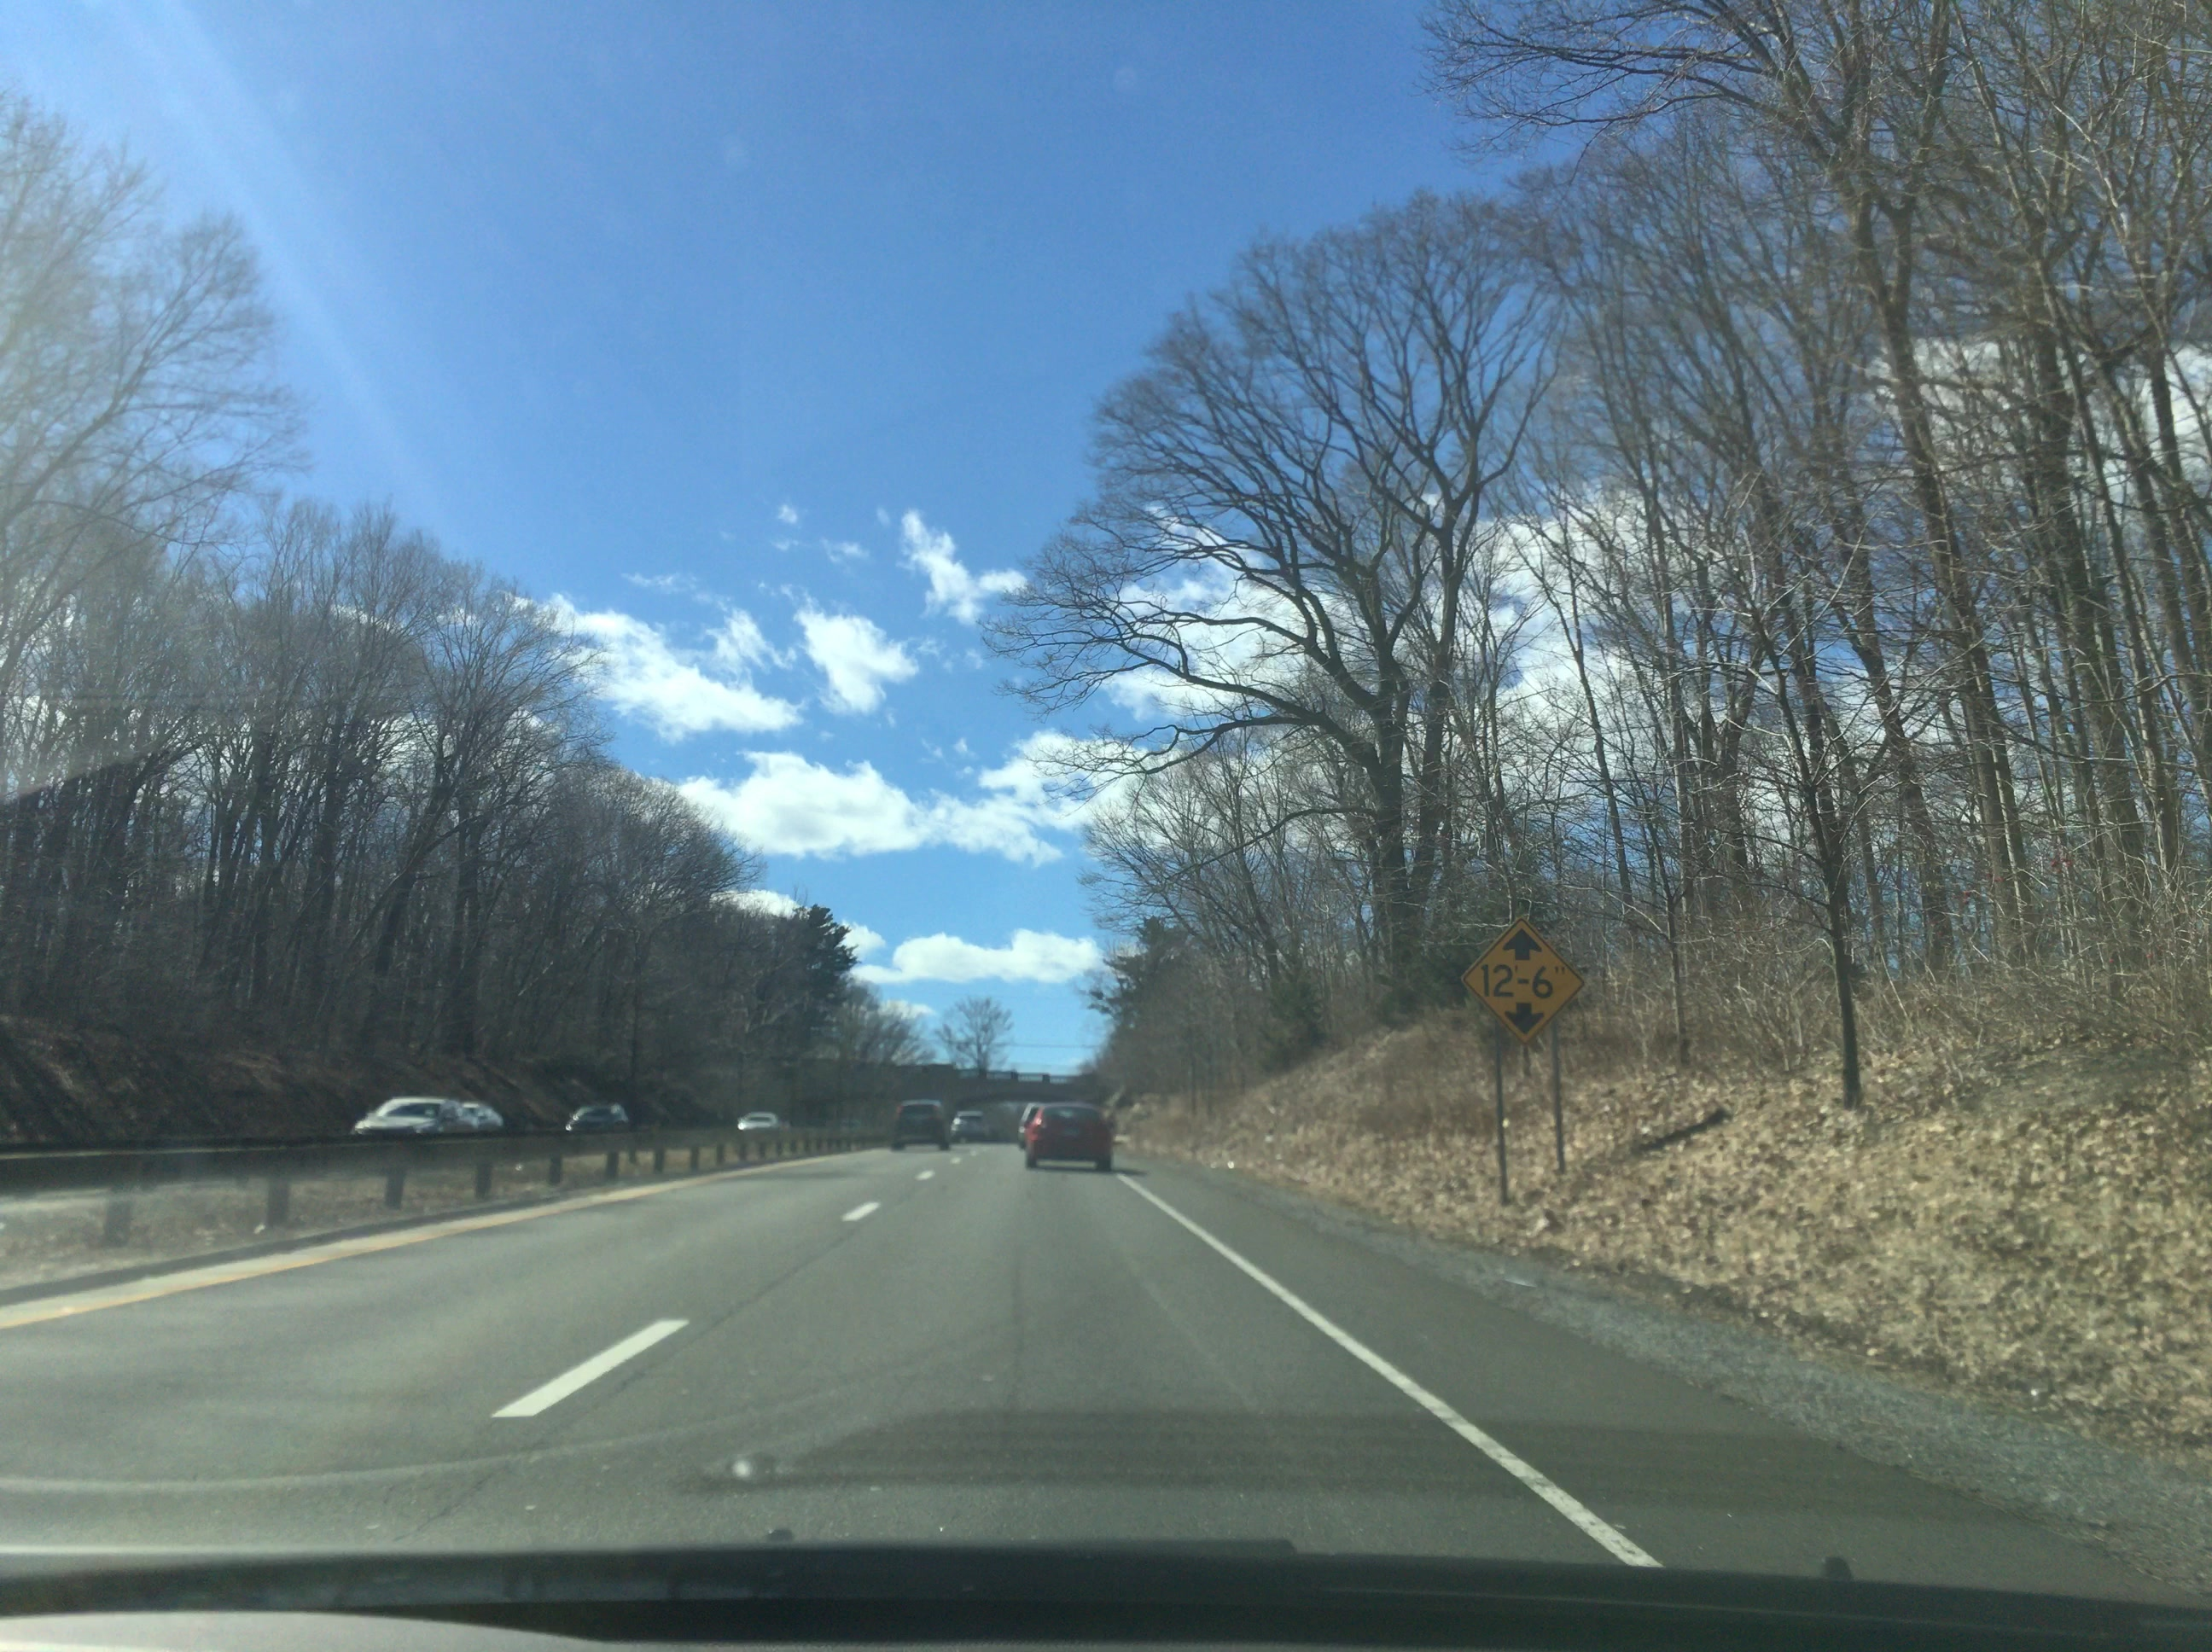low-clearance-sign: (1461, 916, 1586, 1045)
